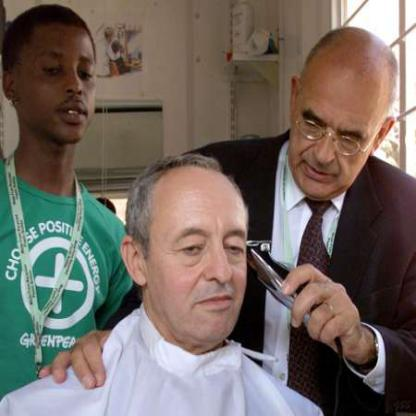face: (144, 161, 263, 345), (294, 51, 379, 202), (16, 9, 106, 146)
